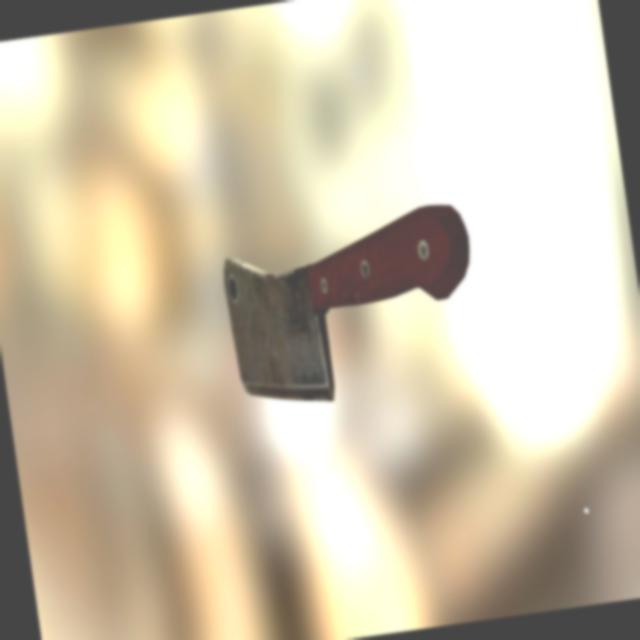cleaver: (211, 188, 495, 426)
